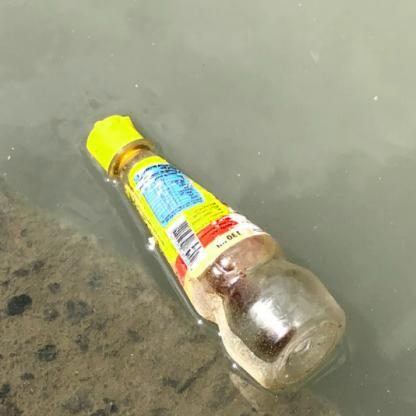Glass: (78, 102, 360, 404)
